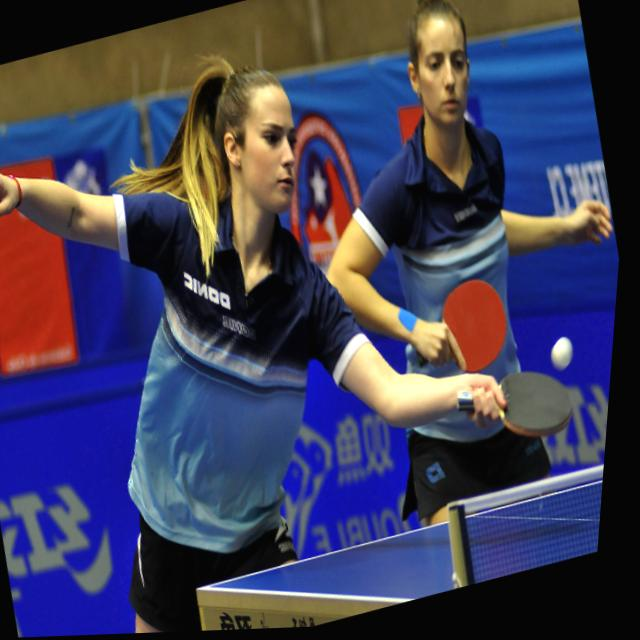TT Net: (444, 462, 604, 584)
TT Racket: (433, 270, 513, 380), (493, 357, 578, 437)
TT Table: (196, 473, 603, 600)
